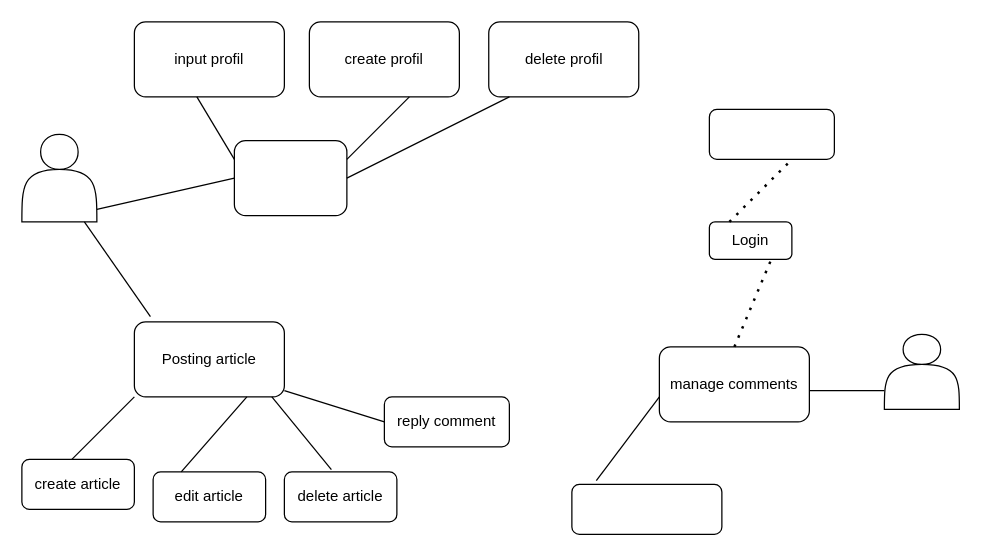
The diagram is 981 pixels wide and 556 high, and some of its shapes have lost their labels. The centre of each missing label's shape, as x and y in pixels:
"comment articles" goes at point (771, 133).
"Manage profil" goes at point (290, 177).
"USER" goes at point (59, 177).
"view articles" goes at point (646, 508).
"VIEWER" goes at point (921, 371).
